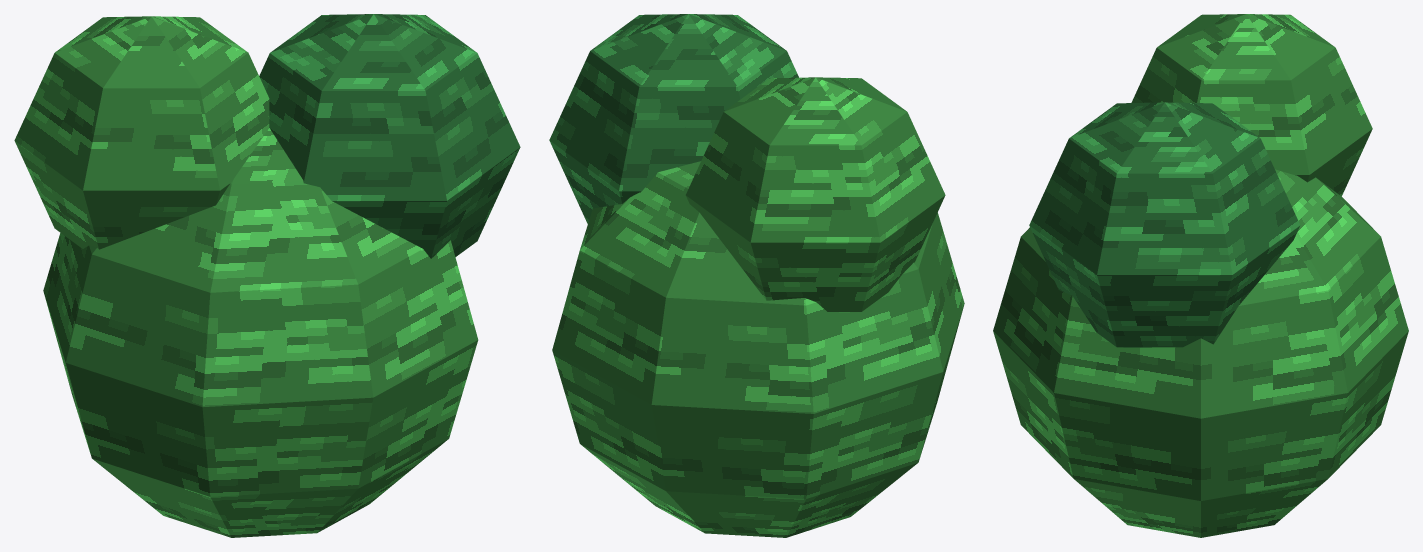
The model's file is tree_round.glb.
3 views of the same model, side by side, from view 1: azimuth 30°, elevation 25°; view 2: azimuth 150°, elevation 25°; view 3: azimuth 270°, elevation 25° (orthographic). The views are drawn at different scales.
Parts seen in each view (by area): view 1: tree_round; view 2: tree_round; view 3: tree_round.
Boxes of the visible parts, box(x1,y1,x2,y2) form: tree_round: box(14, 14, 520, 537); tree_round: box(549, 14, 964, 537); tree_round: box(993, 14, 1408, 537).
Size of the model in its own units: 2.35 by 2.85 by 2.3.
3 materials, 3 textured.
